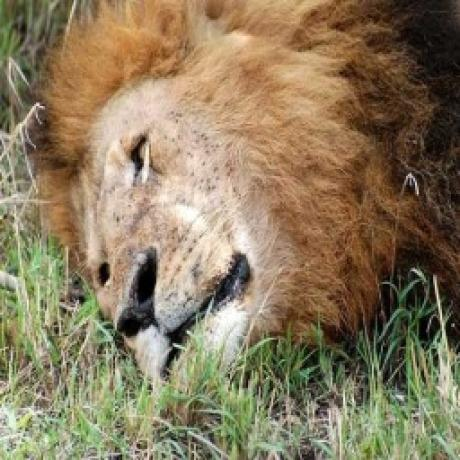Lion: (34, 0, 460, 392)
